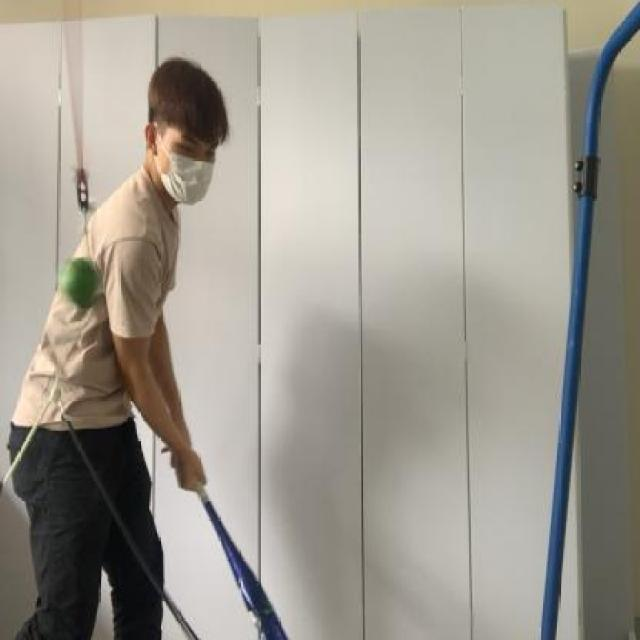baseball: (61, 248, 105, 318)
